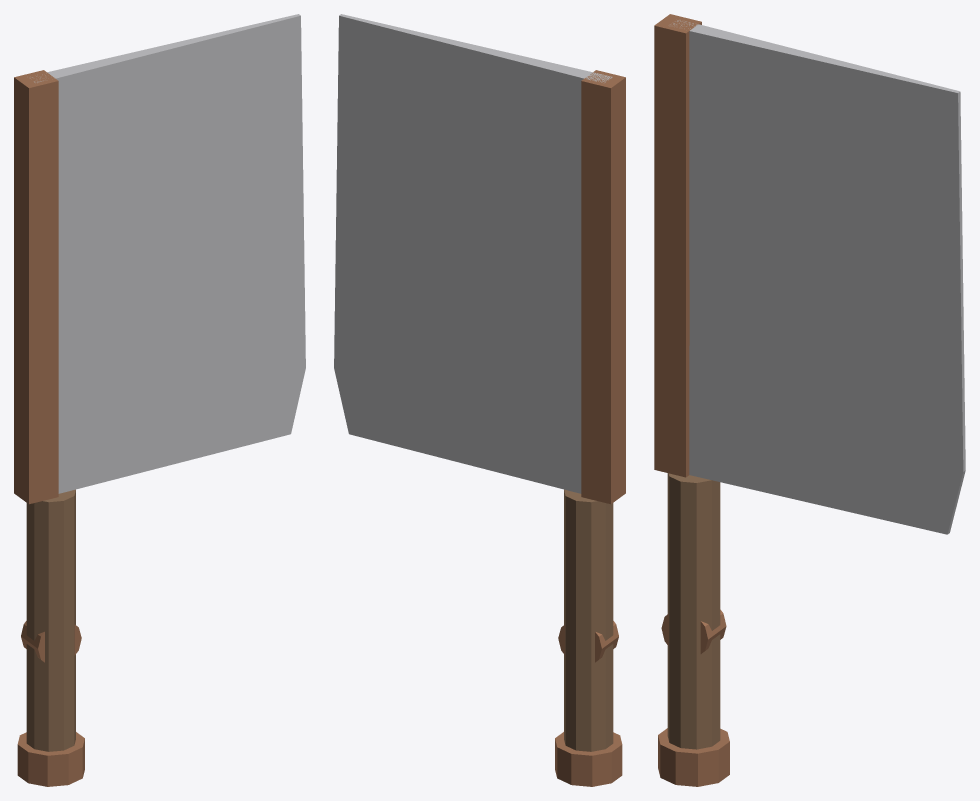
File: cleaver.glb
The picture shows the model from 3 angles, left to right: view 1: azimuth 30°, elevation 25°; view 2: azimuth 150°, elevation 25°; view 3: azimuth 330°, elevation 25°; orthographic projection. The views are drawn at different scales.
Parts seen in each view (by area): view 1: cleaver; view 2: cleaver; view 3: cleaver.
Boxes of the visible parts, left/top/right/bottom form: cleaver: left=14, top=14, right=305, bottom=786; cleaver: left=334, top=14, right=625, bottom=786; cleaver: left=654, top=14, right=965, bottom=786.
Size of the model in its own units: 0.285 by 0.67 by 0.06.
